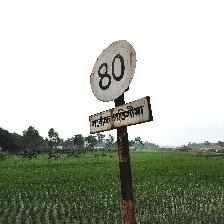Speed-limit: (88, 39, 152, 134)
